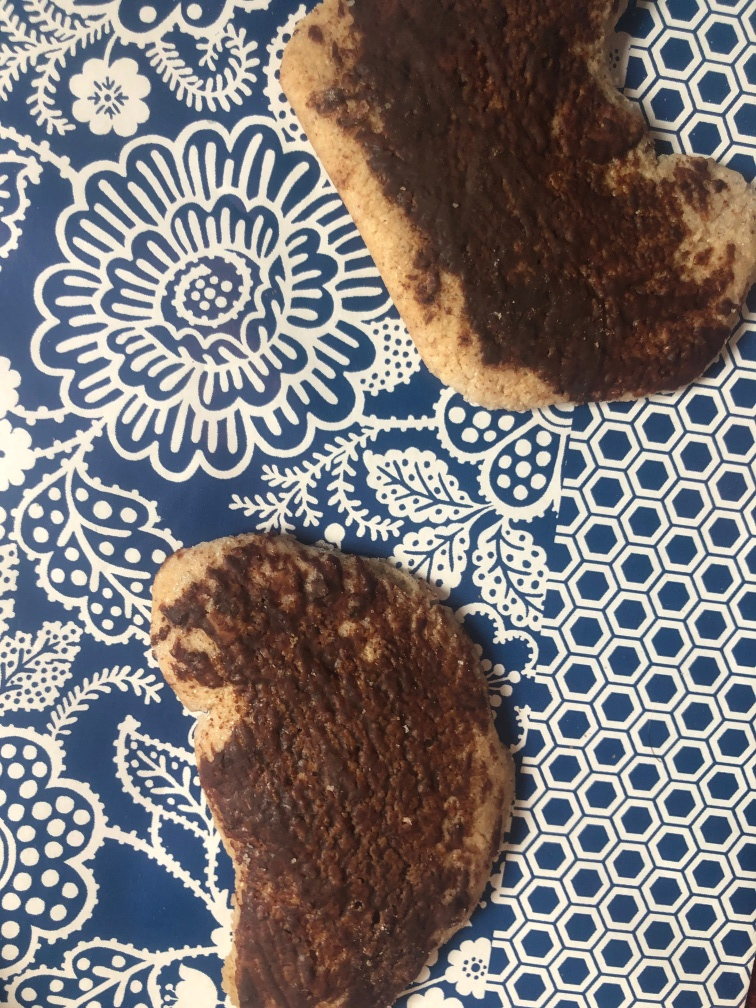weird #1: (282, 1, 756, 414), (146, 529, 517, 1008)
